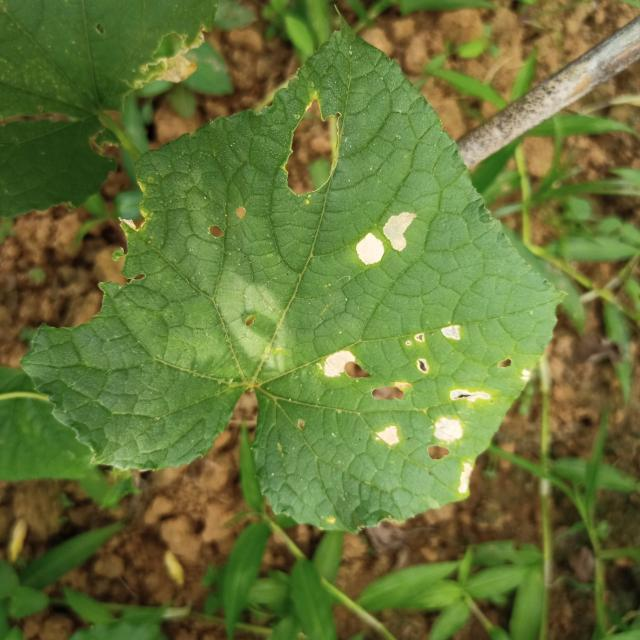disease_cucumber: (326, 325, 492, 494), (357, 213, 416, 265)
